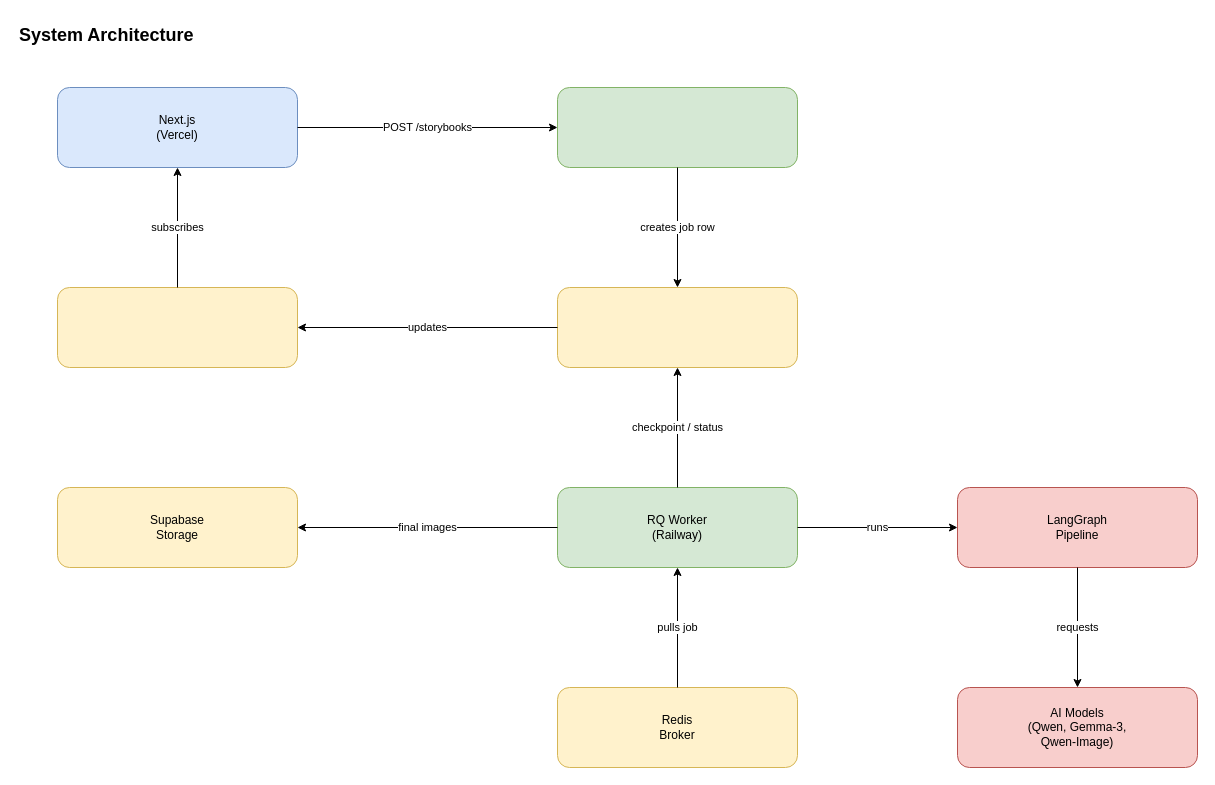
Some shapes in this 1215 by 785 pixel diagram are drawn without their labels. The shapes that lost their labels are listed below. From the top down, each one's centre as x and y in pixels, then its label:
At pixel 677 127: "FastAPI Web (Railway)".
At pixel 177 327: "Supabase Realtime".
At pixel 677 327: "Supabase Postgres".
